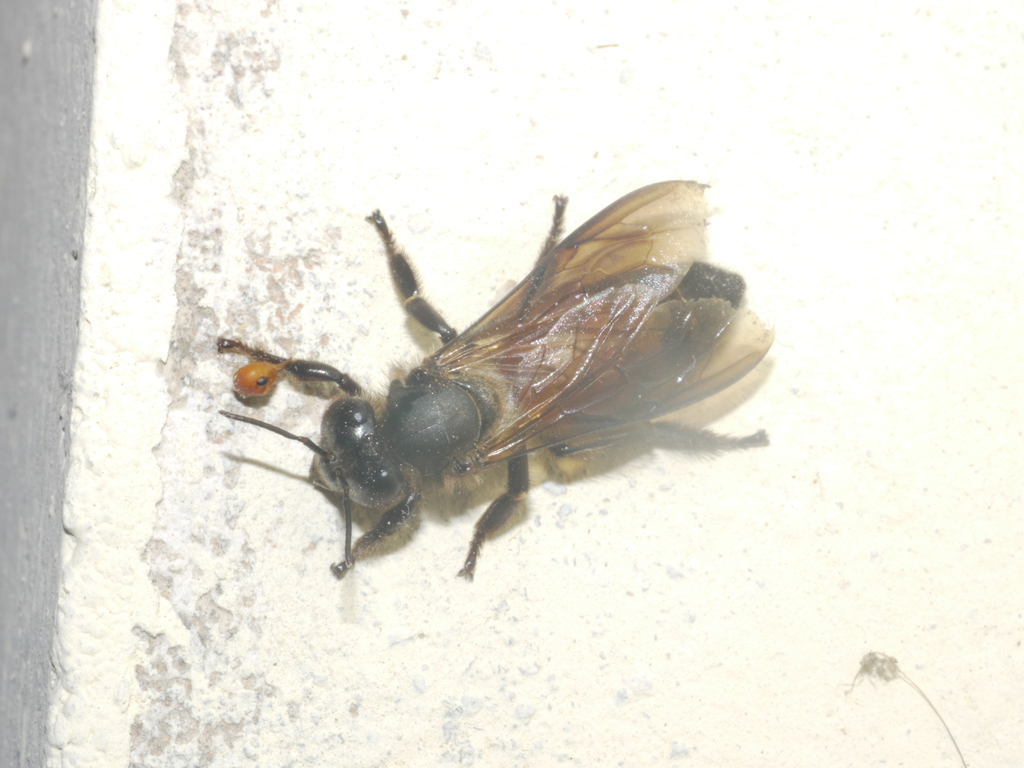honeybee: (216, 177, 774, 581)
